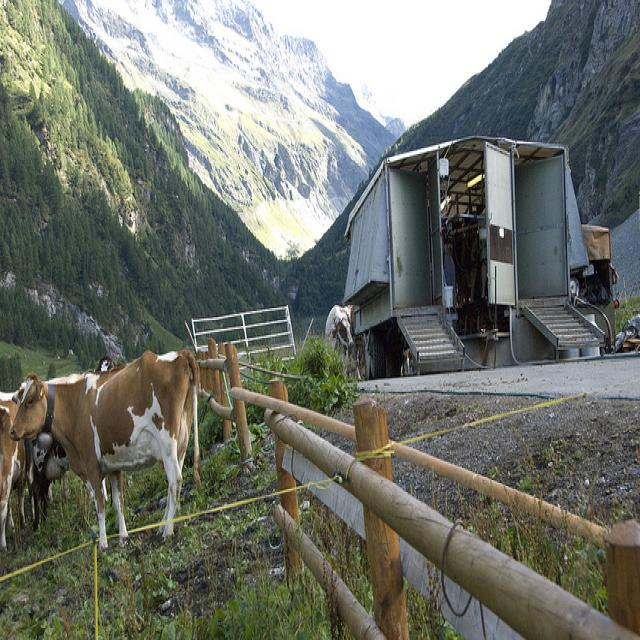Vehicle: (343, 138, 603, 377)
